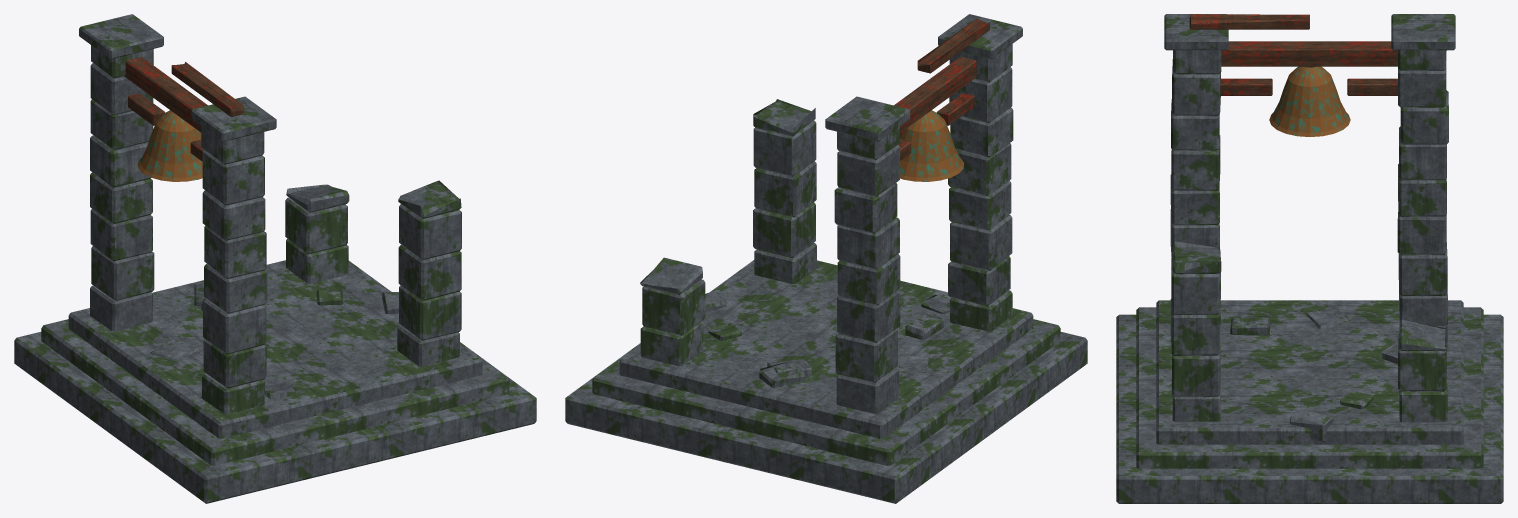
The model's file is Bell_Tower_Broken.glb.
3 views of the same model, side by side, from view 1: azimuth 30°, elevation 25°; view 2: azimuth 150°, elevation 25°; view 3: azimuth 270°, elevation 25° (orthographic).
Parts seen in each view (by area): view 1: Bell_Tower_Broken__Stone, Bell_Tower_Broken__Timber, Bell_Tower_Broken__Bronze; view 2: Bell_Tower_Broken__Stone, Bell_Tower_Broken__Timber, Bell_Tower_Broken__Bronze; view 3: Bell_Tower_Broken__Stone, Bell_Tower_Broken__Timber, Bell_Tower_Broken__Bronze.
Boxes of the visible parts, x1,y1,x2,y2 form: Bell_Tower_Broken__Stone: (14, 14, 536, 503); Bell_Tower_Broken__Timber: (124, 56, 243, 161); Bell_Tower_Broken__Bronze: (137, 110, 202, 181); Bell_Tower_Broken__Stone: (565, 14, 1087, 503); Bell_Tower_Broken__Timber: (894, 18, 989, 160); Bell_Tower_Broken__Bronze: (900, 110, 964, 181); Bell_Tower_Broken__Stone: (1116, 14, 1503, 503); Bell_Tower_Broken__Timber: (1189, 14, 1397, 95); Bell_Tower_Broken__Bronze: (1269, 66, 1350, 136).
Bounding box in the file's own units: 29 × 29.6 × 29.
3 materials, 3 textured.
